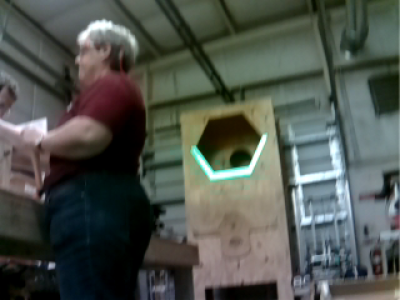target: (190, 133, 268, 182)
